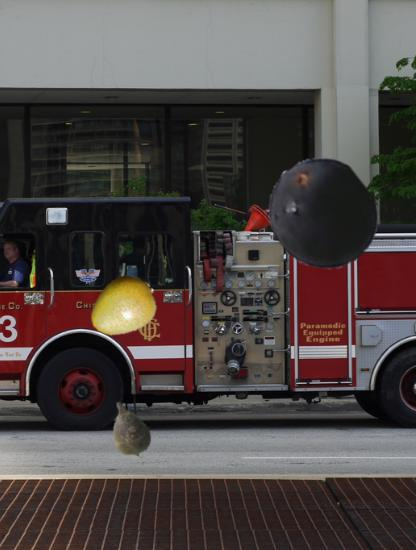Beetroot: (97, 399, 161, 463)
Grape: (265, 156, 381, 272)
Pear: (87, 273, 158, 344)
